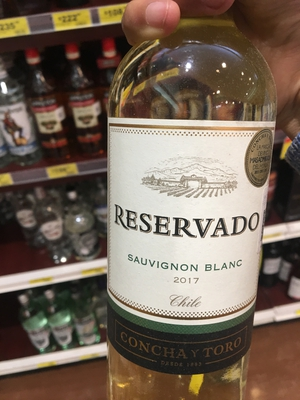reservado sauvignon blanc: (101, 13, 269, 396)
